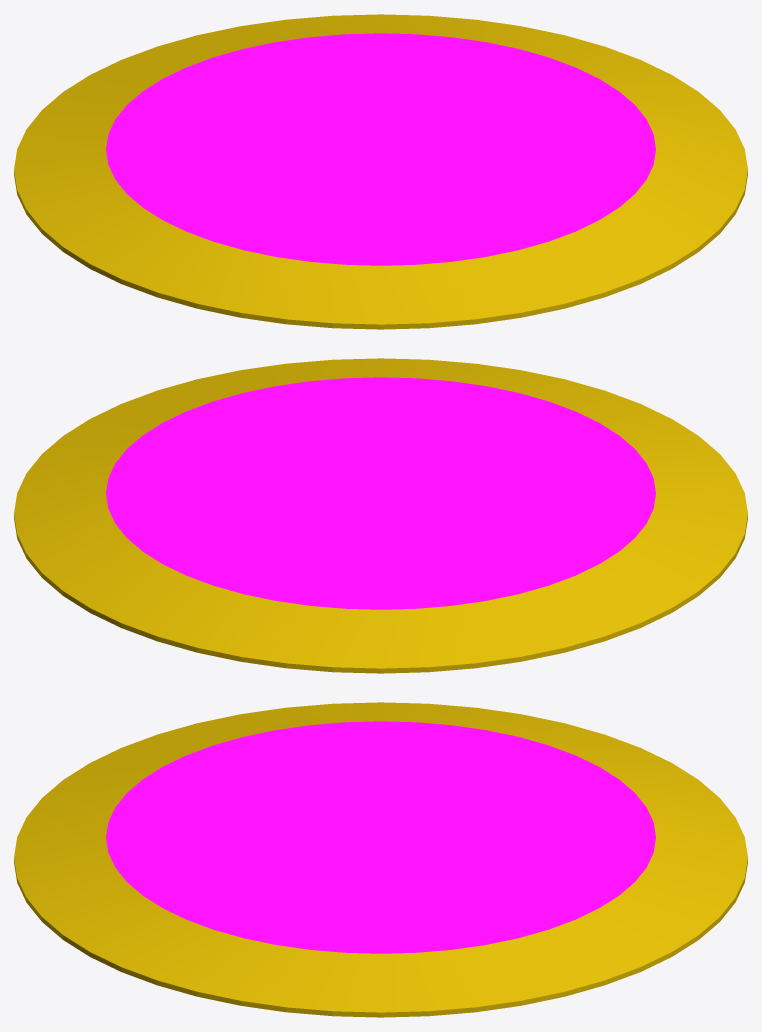
Rendered from Pad3.gltf.
The picture shows the model from 3 angles, top to bottom: view 1: azimuth 30°, elevation 25°; view 2: azimuth 150°, elevation 25°; view 3: azimuth 270°, elevation 25°; orthographic projection.
Parts seen in each view (by area): view 1: Pad; view 2: Pad; view 3: Pad.
Boxes of the visible parts, x1=… form: Pad: x1=14, y1=14, x2=747, y2=329; Pad: x1=14, y1=358, x2=747, y2=673; Pad: x1=14, y1=702, x2=747, y2=1017.
Size of what is drawn, in the model's own units: 3 by 0.2025 by 3.
